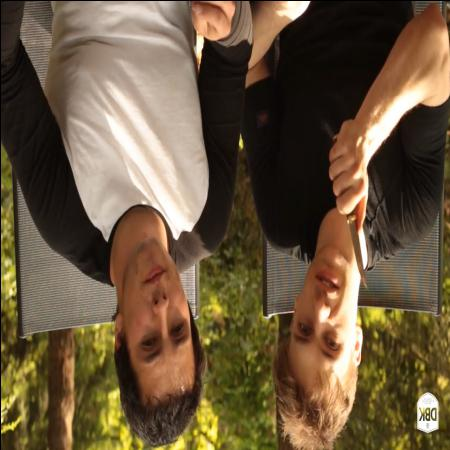long weapon: (325, 150, 375, 300)
